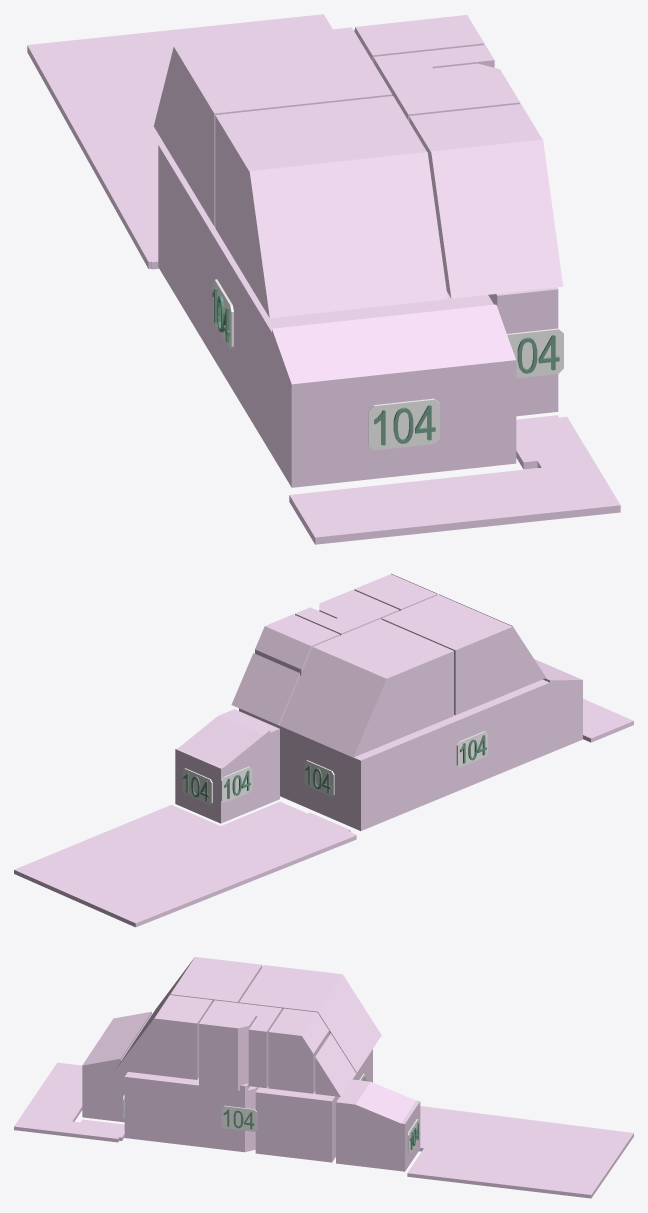
The picture shows the model from 3 angles, top to bottom: view 1: azimuth 30°, elevation 25°; view 2: azimuth 150°, elevation 25°; view 3: azimuth 270°, elevation 25°; orthographic projection. The views are drawn at different scales.
Parts seen in each view (by area): view 1: g_1, g_8, g_9, g_13, g_14, g_7, g_0, g_10, g_4, g_6, g_30, g_11 (+1 smaller); view 2: g_13, g_7, g_1, g_0, g_8, g_5, g_12, g_6, g_10, g_9, g_14, g_11 (+4 smaller); view 3: g_13, g_7, g_5, g_0, g_9, g_4, g_14, g_1, g_6, g_11, g_2, g_8 (+3 smaller).
Part boxes in pixels (bbox=[...]): g_1: bbox=[198, 210, 516, 487]; g_8: bbox=[215, 96, 447, 318]; g_9: bbox=[409, 104, 563, 298]; g_13: bbox=[27, 14, 332, 269]; g_14: bbox=[289, 415, 620, 544]; g_7: bbox=[153, 27, 392, 226]; g_0: bbox=[158, 144, 203, 332]; g_10: bbox=[373, 45, 494, 121]; g_4: bbox=[488, 287, 558, 416]; g_6: bbox=[354, 15, 484, 62]; g_30: bbox=[368, 398, 439, 450]; g_11: bbox=[433, 63, 520, 108]; g_13: bbox=[14, 801, 356, 927]; g_7: bbox=[279, 619, 453, 757]; g_1: bbox=[420, 659, 582, 803]; g_0: bbox=[239, 708, 426, 830]; g_8: bbox=[381, 594, 546, 715]; g_5: bbox=[175, 709, 279, 823]; g_12: bbox=[231, 653, 299, 724]; g_6: bbox=[255, 614, 339, 676]; g_10: bbox=[295, 598, 399, 635]; g_9: bbox=[354, 573, 437, 610]; g_14: bbox=[583, 698, 633, 742]; g_11: bbox=[319, 590, 370, 618]; g_13: bbox=[407, 1106, 633, 1198]; g_7: bbox=[239, 965, 381, 1072]; g_5: bbox=[336, 1078, 420, 1171]; g_0: bbox=[255, 1049, 372, 1162]; g_9: bbox=[115, 995, 212, 1079]; g_4: bbox=[124, 1072, 198, 1146]; g_14: bbox=[14, 1062, 124, 1142]; g_1: bbox=[82, 1011, 152, 1122]; g_6: bbox=[268, 1008, 328, 1093]; g_11: bbox=[199, 1013, 255, 1084]; g_2: bbox=[196, 1080, 258, 1152]; g_8: bbox=[132, 957, 262, 1044].
Size of the model in its own units: 11.94 by 5.36 by 23.62.
